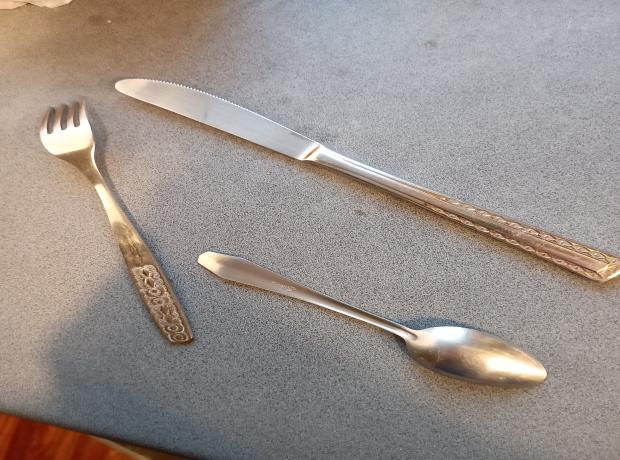metal: (113, 76, 619, 284), (198, 250, 552, 387), (38, 99, 197, 345)
